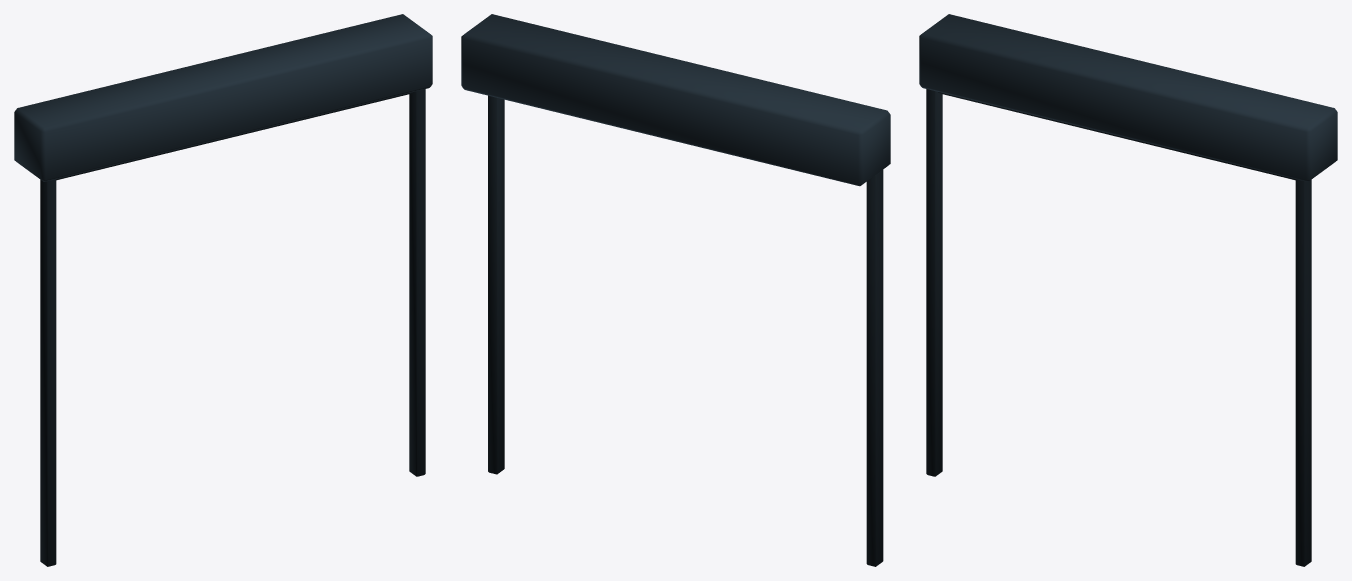
Rendered from persiana_abierta.glb.
3 renders of one model, left to right at view 1: azimuth 30°, elevation 25°; view 2: azimuth 150°, elevation 25°; view 3: azimuth 330°, elevation 25°, orthographic. The views are drawn at different scales.
Parts seen in each view (by area): view 1: persiana; view 2: persiana; view 3: persiana.
Part boxes in pixels (x1,y1,x2,y2): persiana: (14,14,432,566); persiana: (461,14,890,566); persiana: (919,14,1337,566).
Bounding box in the file's own units: 2.4 × 2.58 × 0.32.
